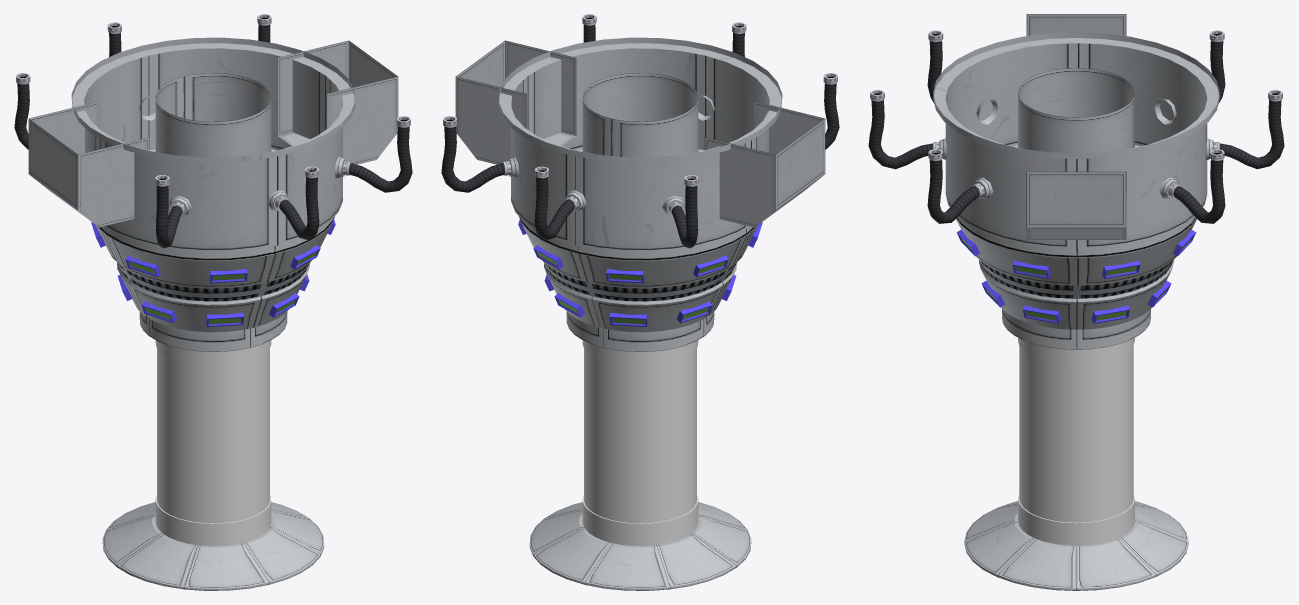
Rendered from CircularStorage_01.FBX.
3 views of the same model, side by side, from view 1: azimuth 30°, elevation 25°; view 2: azimuth 150°, elevation 25°; view 3: azimuth 270°, elevation 25° (orthographic).
Visible parts, largest first — view 1: CircularStorage_01, CircularStorage_01_DoorGlass, CircularStorage_01_Door; view 2: CircularStorage_01, CircularStorage_01_DoorGlass, CircularStorage_01_Door; view 3: CircularStorage_01, CircularStorage_01_DoorGlass, CircularStorage_01_Door.
Part boxes in pixels (bbox=[...]): CircularStorage_01: bbox=[14, 14, 412, 590]; CircularStorage_01_DoorGlass: bbox=[157, 348, 269, 523]; CircularStorage_01_Door: bbox=[155, 340, 271, 546]; CircularStorage_01: bbox=[441, 14, 839, 590]; CircularStorage_01_DoorGlass: bbox=[584, 348, 696, 523]; CircularStorage_01_Door: bbox=[582, 340, 698, 546]; CircularStorage_01: bbox=[868, 14, 1284, 590]; CircularStorage_01_DoorGlass: bbox=[1019, 346, 1133, 522]; CircularStorage_01_Door: bbox=[1018, 337, 1134, 545].
Size of the model in its own units: 6 by 8 by 6.69.
Materials: 5 (3 with a texture image).
